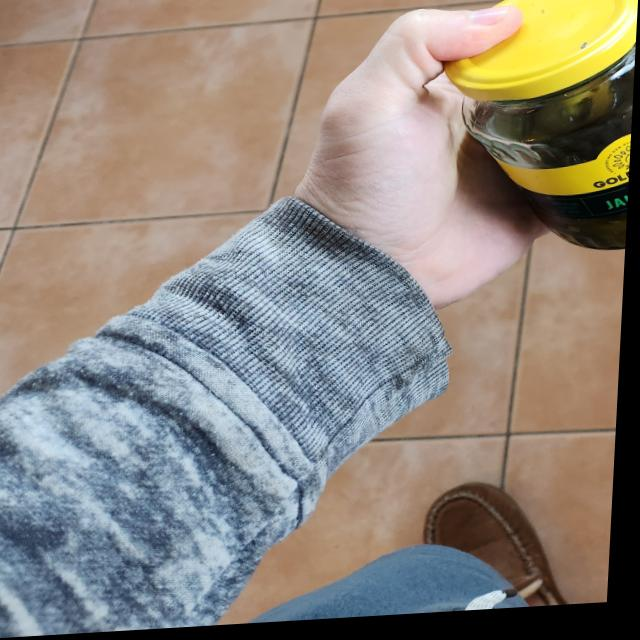jalapeno: (438, 0, 640, 264)
